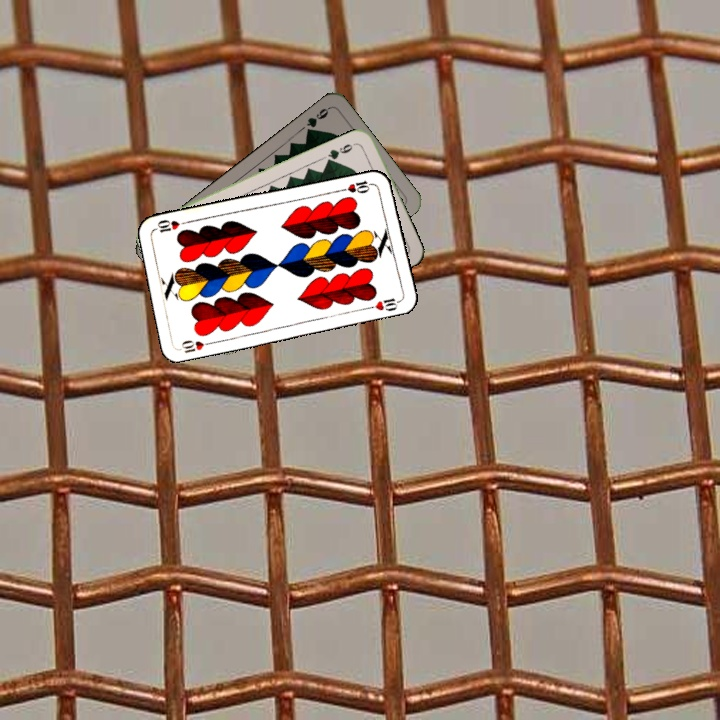G9: (302, 103, 332, 137), (323, 139, 360, 164)
H10: (336, 176, 377, 196), (177, 336, 217, 355)
